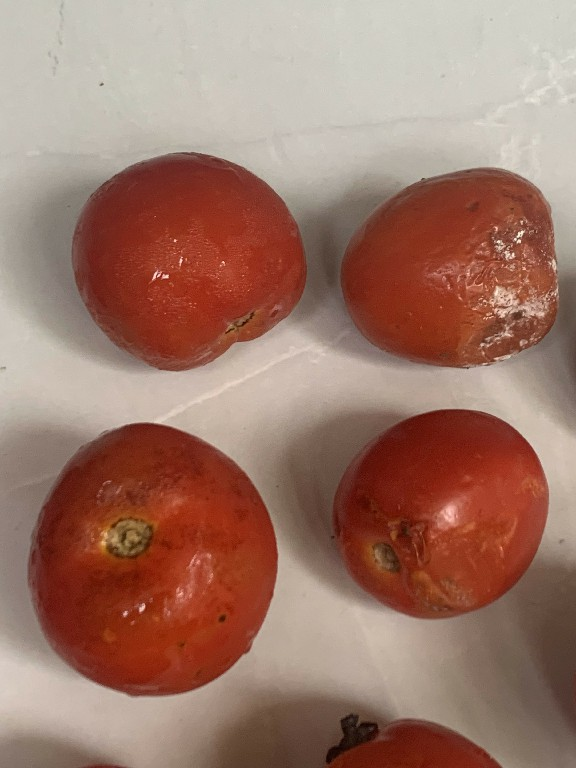NG: (4, 417, 288, 707), (321, 392, 562, 630), (332, 157, 562, 381)
OK: (63, 140, 305, 382)
